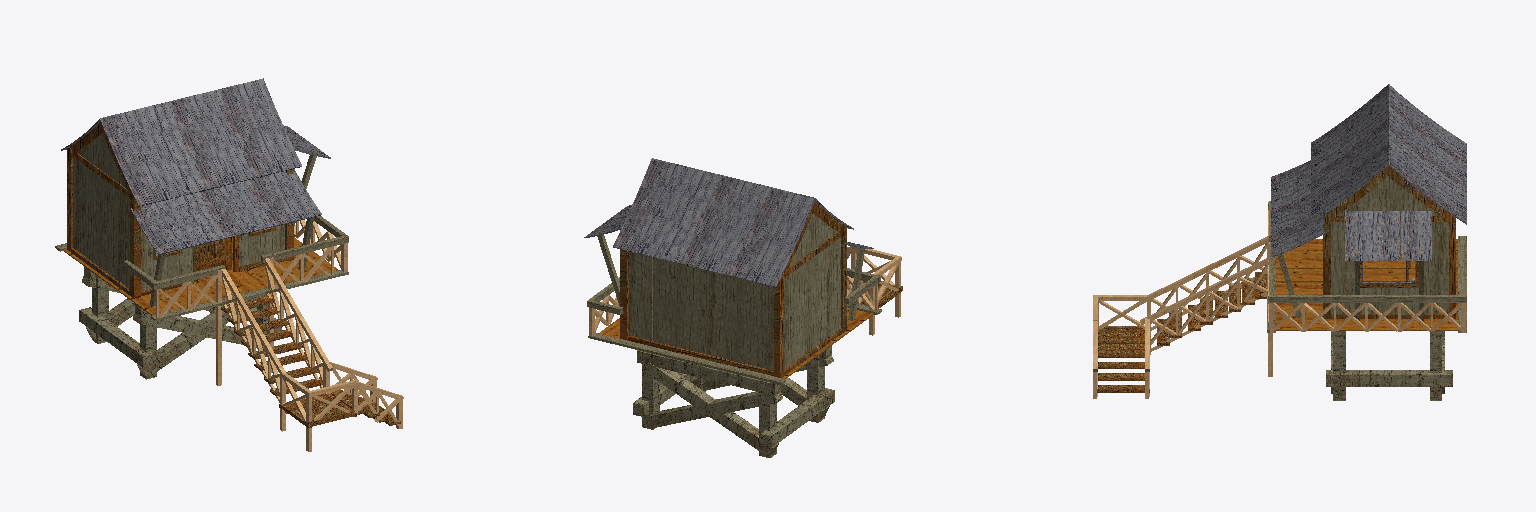
The picture shows the model from 3 angles: view 1: azimuth 30°, elevation 25°; view 2: azimuth 150°, elevation 25°; view 3: azimuth 270°, elevation 25°; orthographic projection.
Visible parts, largest first — view 1: RoofA, staccionata, RoofD, Base, lato_C, scheletro, Floor, stairs, Lato_A, Box463; view 2: RoofB, Lato_B, Base, lato_C, scheletro, staccionata, Floor; view 3: staccionata, RoofA, RoofB, Floor, Lato_D, RoofC, stairs, Base, scheletro, RoofD.
Part boxes in pixels (left/top/right/bottom): RoofA: left=100, top=78, right=301, bottom=206; staccionata: left=123, top=216, right=403, bottom=451; RoofD: left=130, top=169, right=321, bottom=254; Base: left=79, top=267, right=281, bottom=379; lato_C: left=73, top=133, right=129, bottom=288; scheletro: left=67, top=122, right=293, bottom=298; Floor: left=55, top=237, right=348, bottom=321; stairs: left=221, top=295, right=400, bottom=427; Lato_A: left=141, top=224, right=284, bottom=290; Box463: left=198, top=237, right=231, bottom=270; RoofB: left=613, top=159, right=814, bottom=286; Lato_B: left=629, top=252, right=773, bottom=370; Base: left=633, top=346, right=834, bottom=457; lato_C: left=784, top=213, right=840, bottom=369; scheletro: left=620, top=202, right=846, bottom=377; staccionata: left=587, top=246, right=901, bottom=335; Floor: left=588, top=304, right=881, bottom=384; staccionata: left=1093, top=201, right=1466, bottom=398; RoofA: left=1311, top=84, right=1389, bottom=223; RoofB: left=1389, top=86, right=1466, bottom=224; Floor: left=1267, top=236, right=1466, bottom=332; Lato_D: left=1331, top=176, right=1448, bottom=313; RoofC: left=1345, top=211, right=1431, bottom=260; stairs: left=1097, top=272, right=1266, bottom=392; Base: left=1326, top=331, right=1452, bottom=400; scheletro: left=1323, top=165, right=1455, bottom=318; RoofD: left=1271, top=160, right=1328, bottom=256.
Size of the model in its own units: 390 by 425 by 588.
Materials: 13 (10 with a texture image).